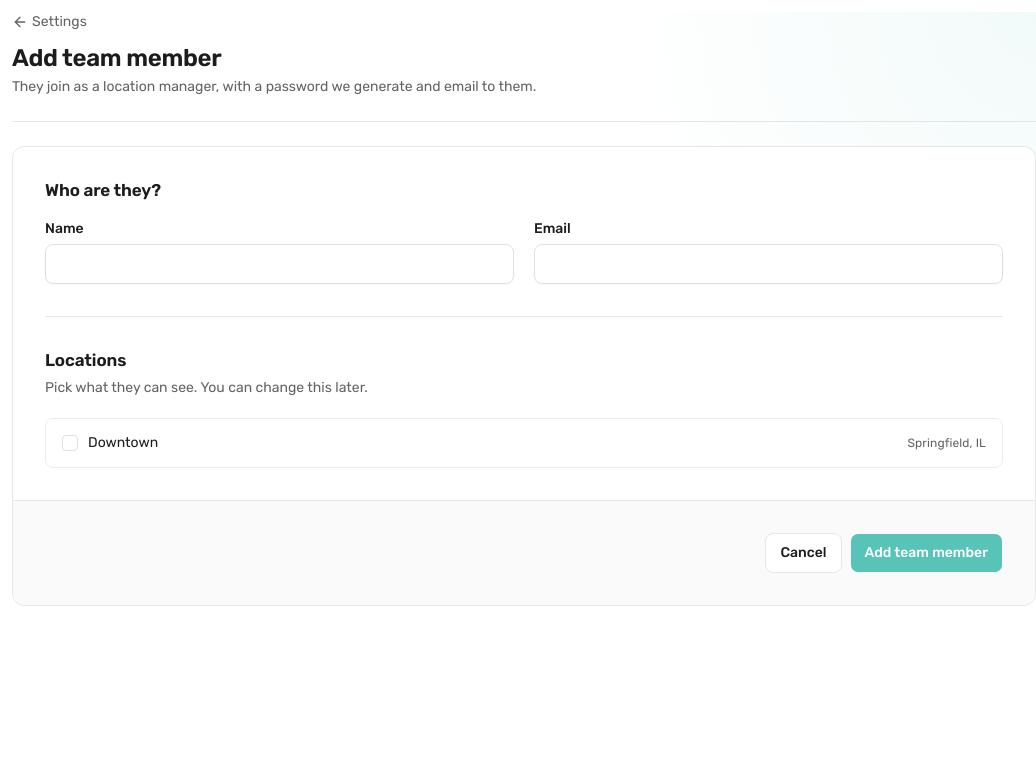
Test: NewTeamMemberPage › reveals the generated password on a persistent result panel
Type "New Person" into the field labelled "Name".
click(280, 264); type("New Person")  # box [45,244,514,284]
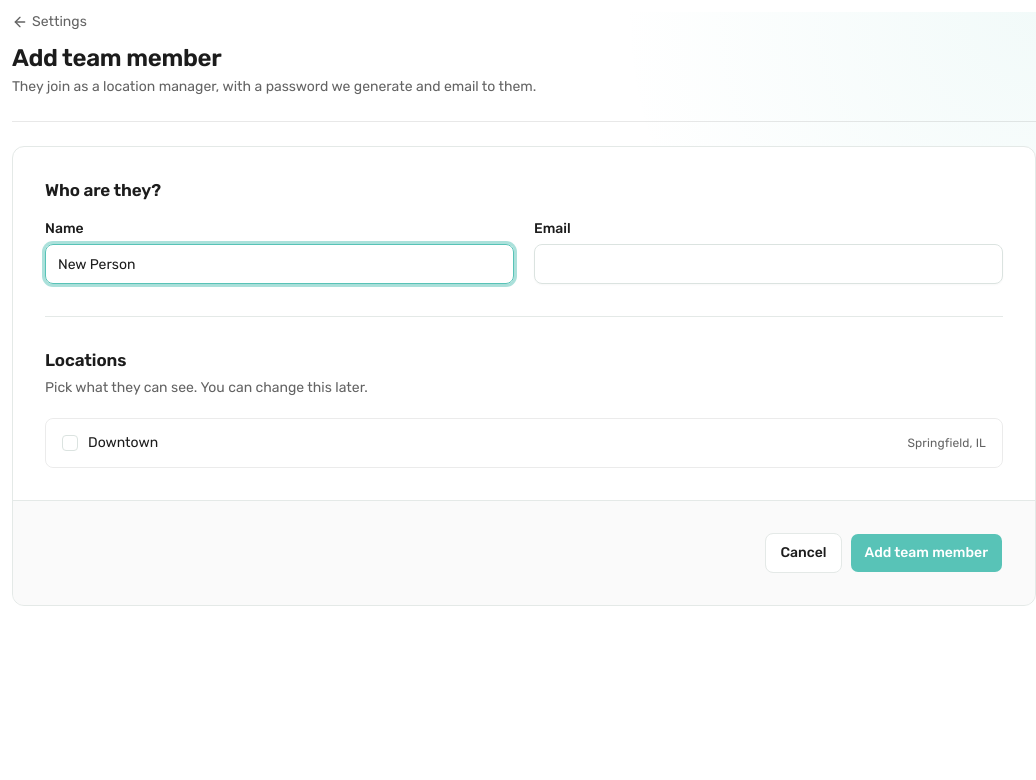
Type "new@example.com" into the field labelled "Email".
click(768, 264); type("new@example.com")  # box [534,244,1003,284]
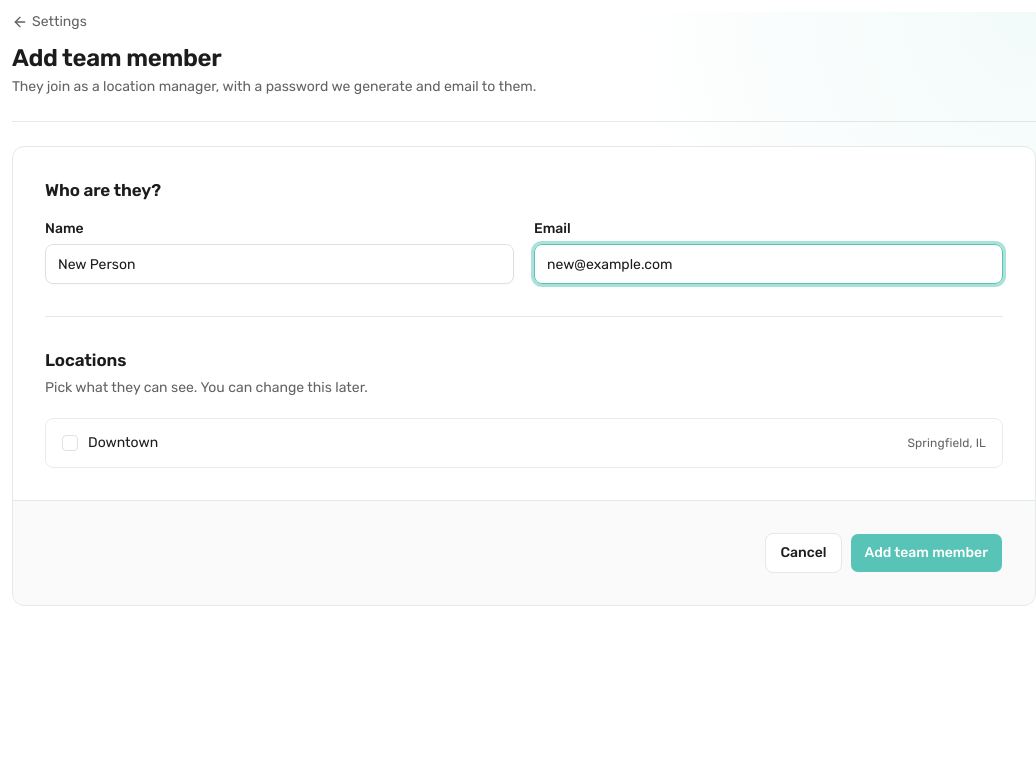
Click the button "Add team member".
click(926, 553)  # box [850,533,1003,573]
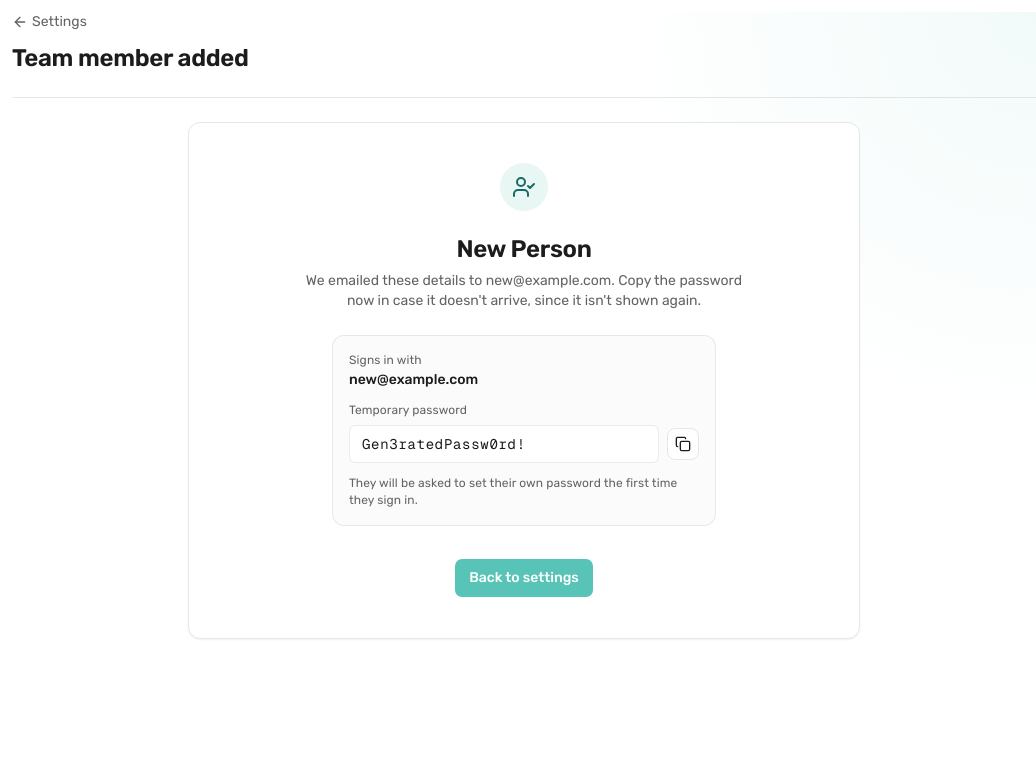
Expected: the text "Gen3ratedPassw0rd!" is shown, [349,425,659,463]
Expected: the button named "copy password" is shown, [667,428,699,460]
